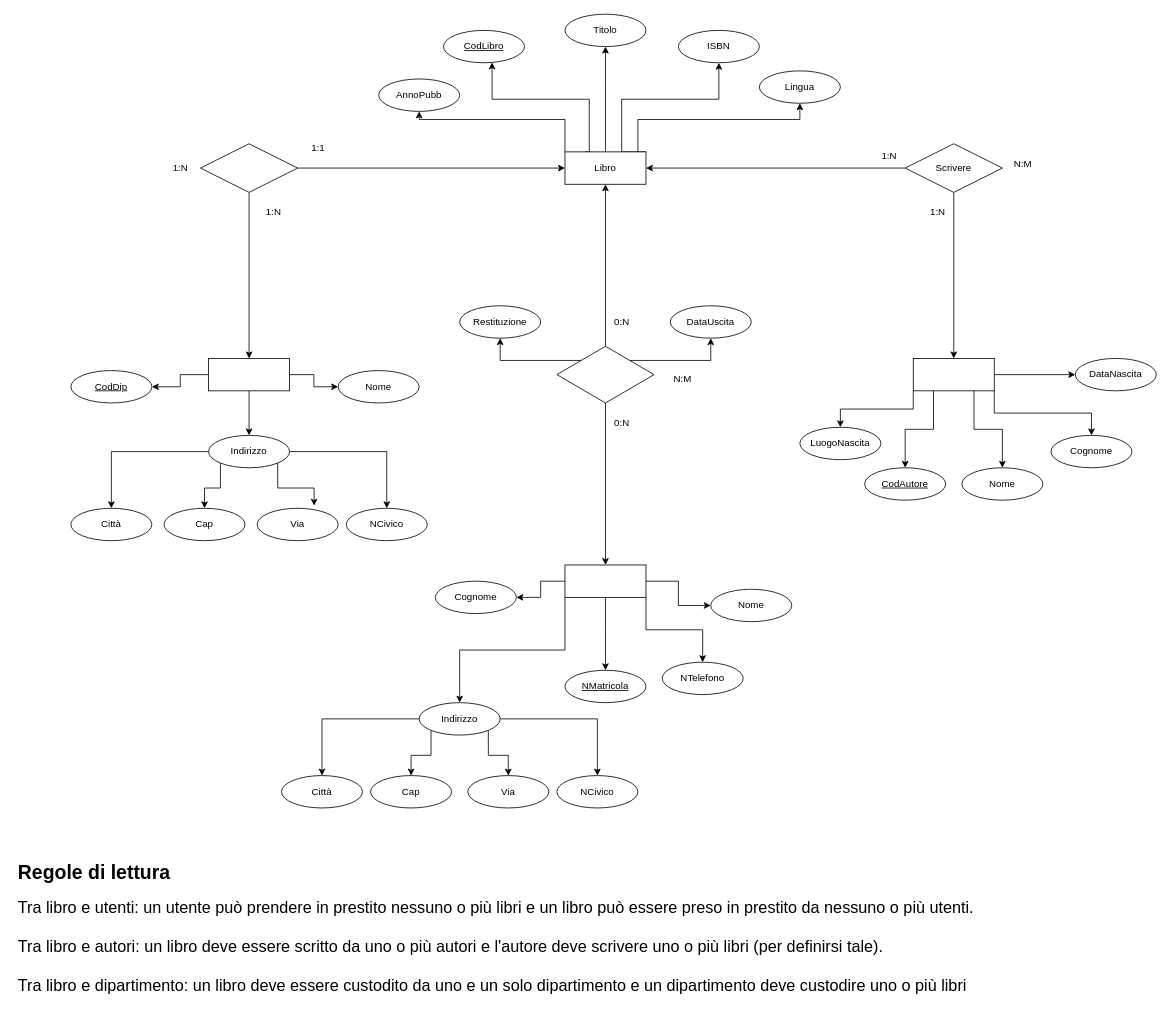
This 1170x1033 diagram has some shape labels left out. The box of each missing label's shape, as (x1, y1, x2, y2) in pixels:
Autore: (912, 358, 994, 391)
Custodire: (200, 143, 298, 192)
Dipartimento: (208, 358, 290, 391)
Prestito: (556, 345, 654, 403)
Utente: (564, 564, 646, 597)
